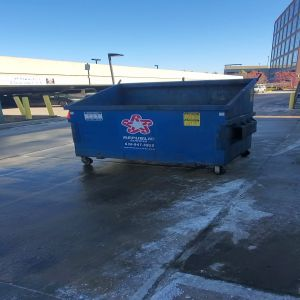Dumpster: (63, 76, 266, 177)
